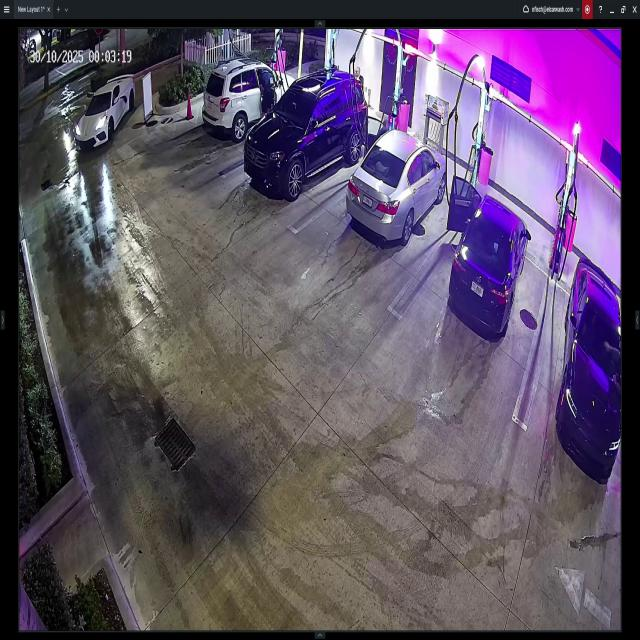Car: (244, 68, 367, 194), (445, 176, 532, 339), (558, 259, 622, 478), (346, 126, 445, 245), (203, 60, 296, 142), (75, 75, 135, 152)
